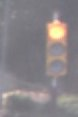Red: (46, 19, 71, 92)
